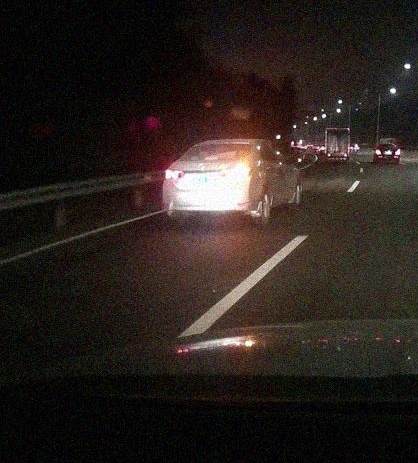L_light: (164, 169, 184, 179), (376, 151, 382, 155), (327, 154, 332, 157)
R_light: (222, 164, 251, 176), (343, 154, 348, 157), (395, 152, 400, 155)
T_light: (216, 144, 226, 146), (333, 129, 339, 132), (385, 144, 390, 145)
night-no: (162, 139, 258, 224), (324, 128, 350, 164), (374, 143, 401, 164)
